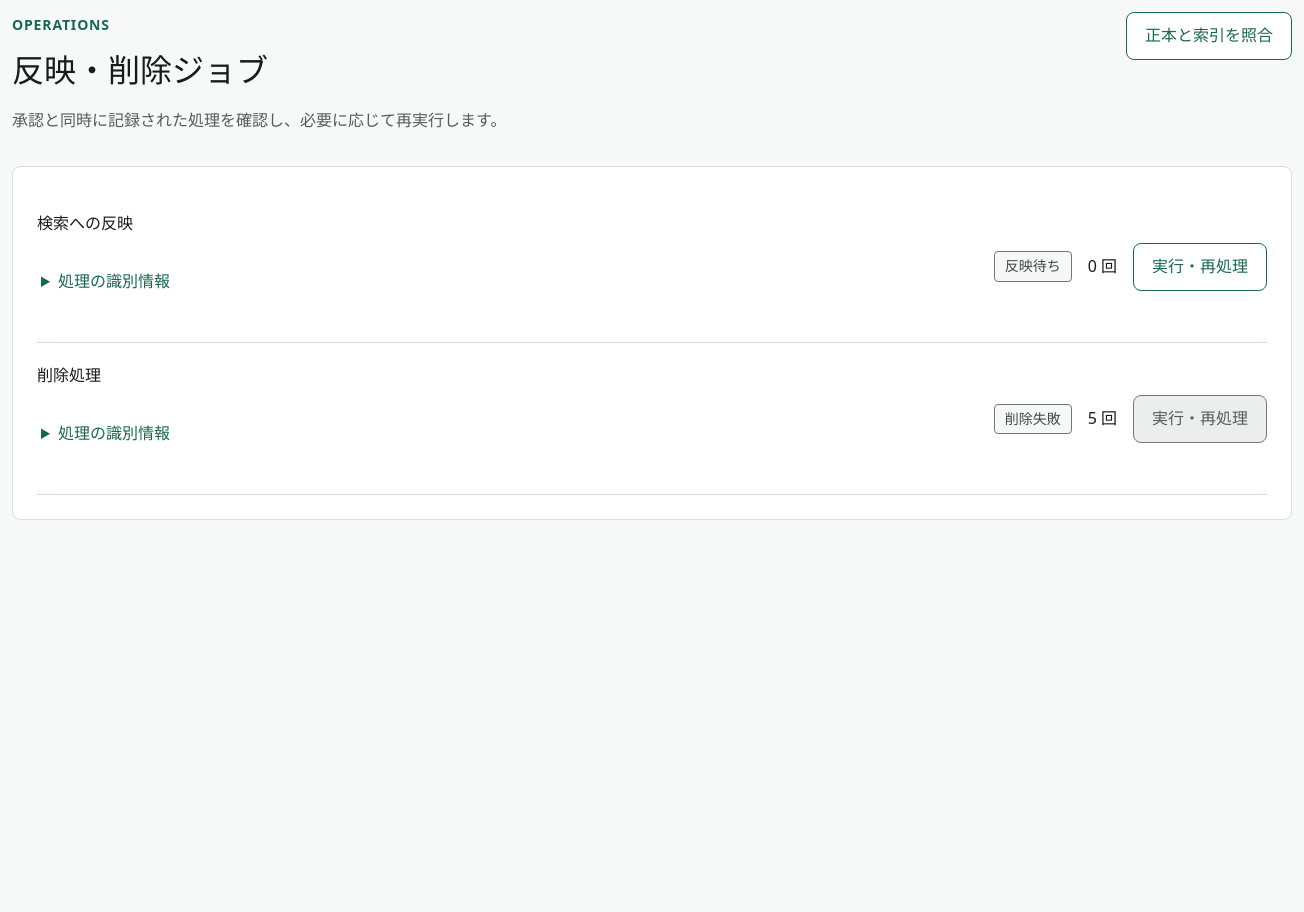
it: 反映・削除ジョブ › 未反映・削除ジョブを実行し照合の不一致を表示する
The width and height of the screenshot is (1304, 912).
expect the text "検索への反映" is shown: met, box [37,212,133,234]
Click the button "実行・再処理" in the row of "反映待ち" at (1200, 267), box [1133,243,1267,291]
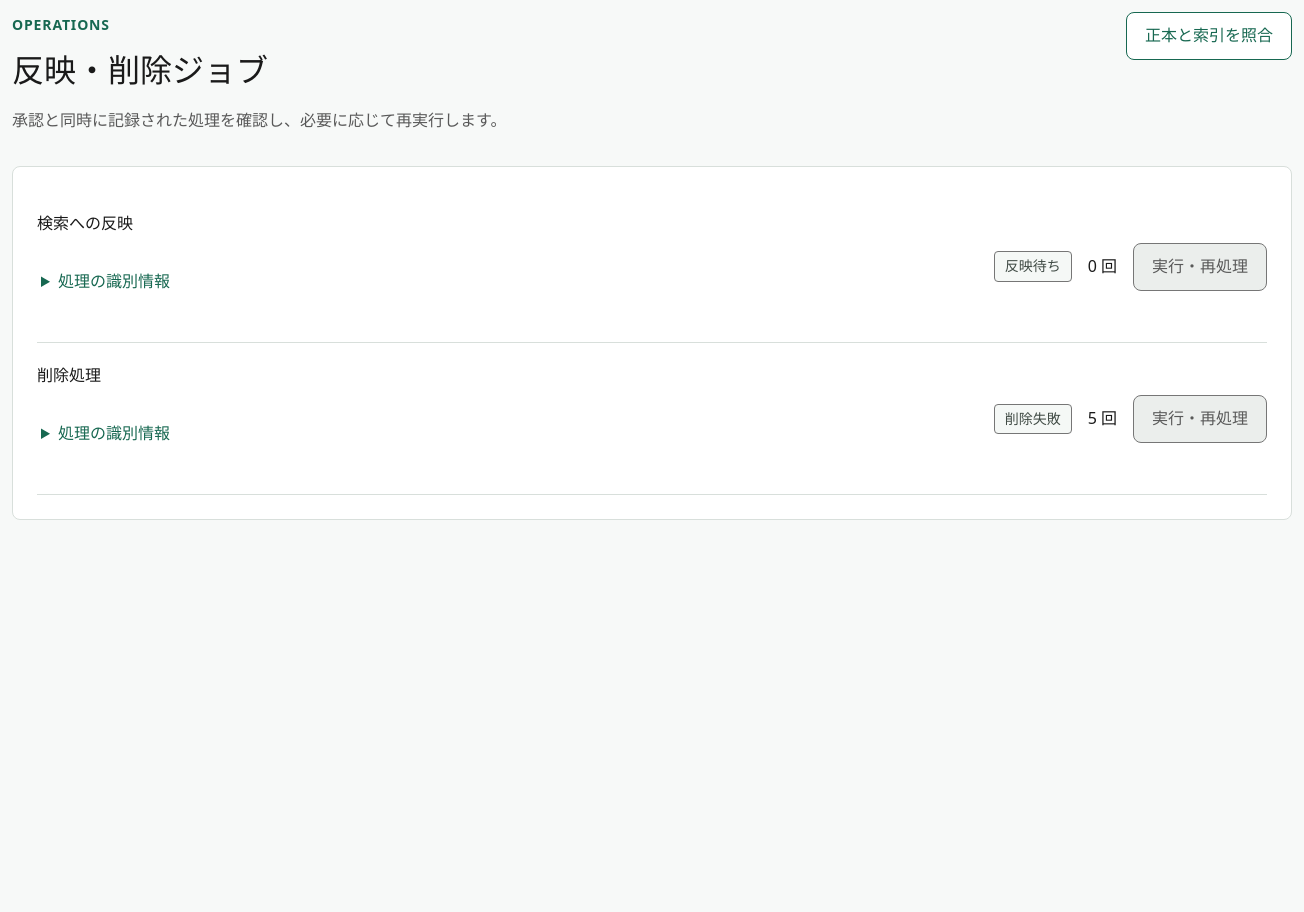
Click the button "正本と索引を照合" at (1209, 36), box [1126,12,1292,60]
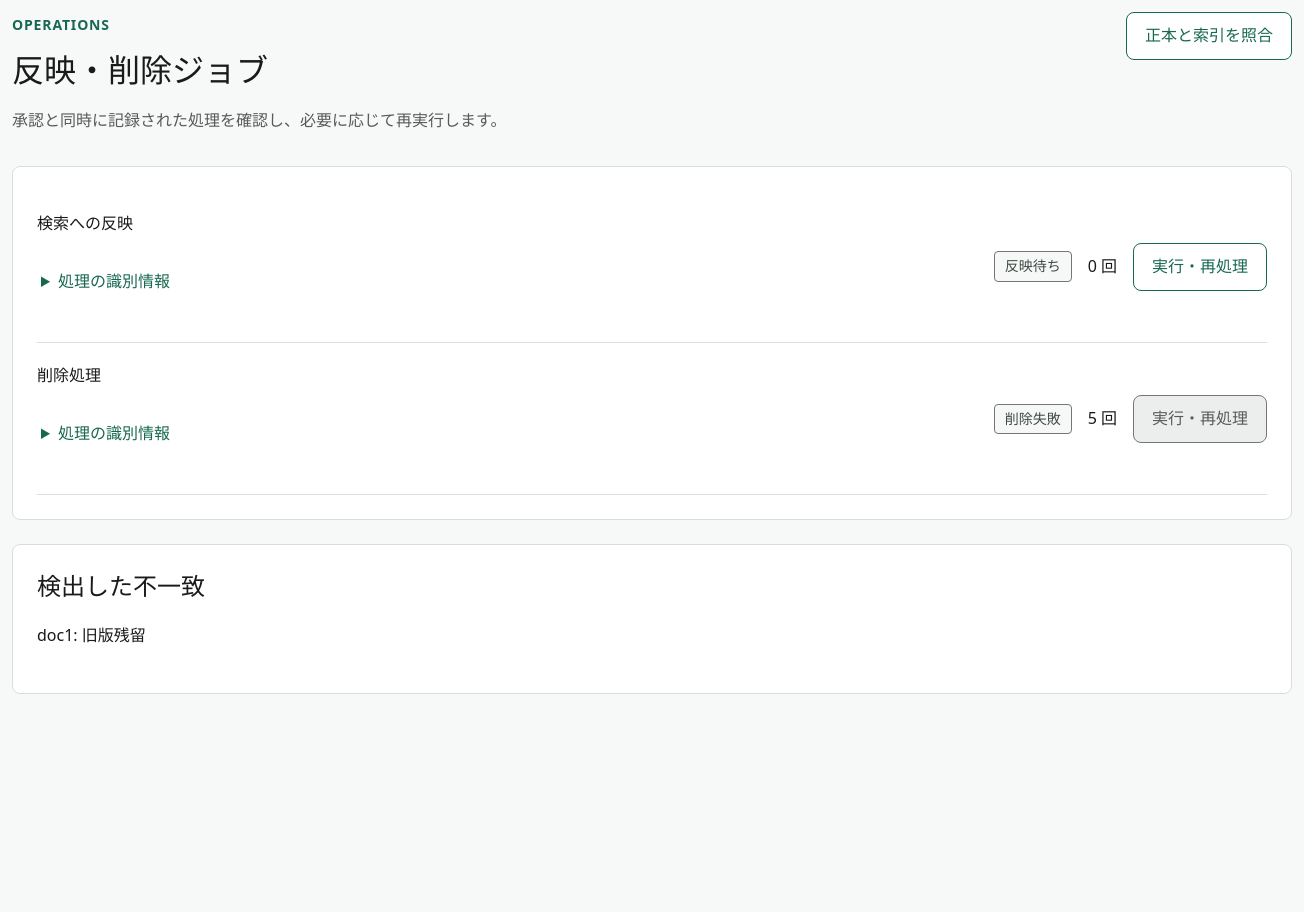
expect the text "doc1: 旧版残留" is shown: met, box [37,624,146,646]
Click the heading "処理の識別情報" below "削除処理" at (114, 433), box [58,422,170,444]
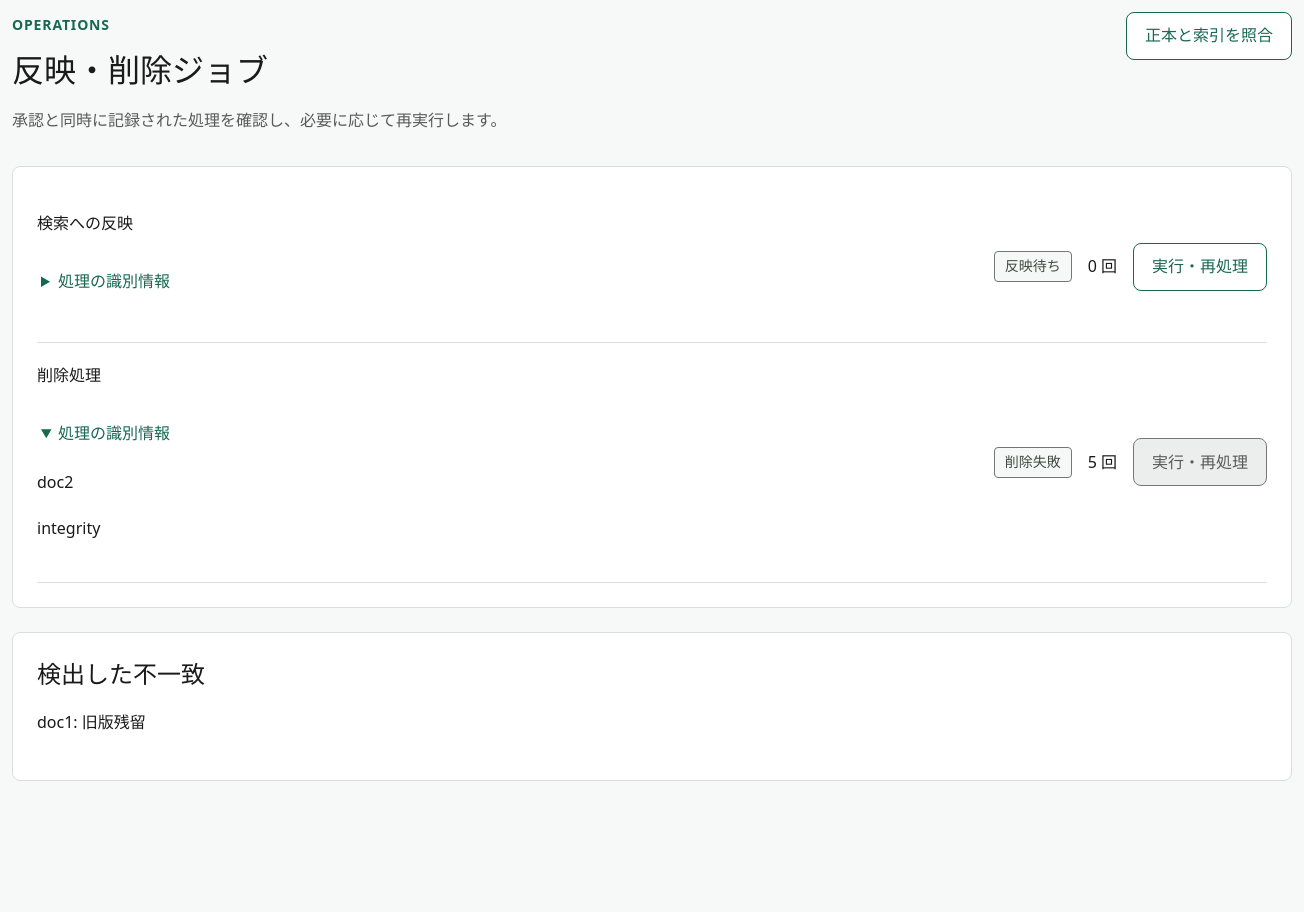
expect the text "integrity" is shown: met, box [37,517,100,539]
